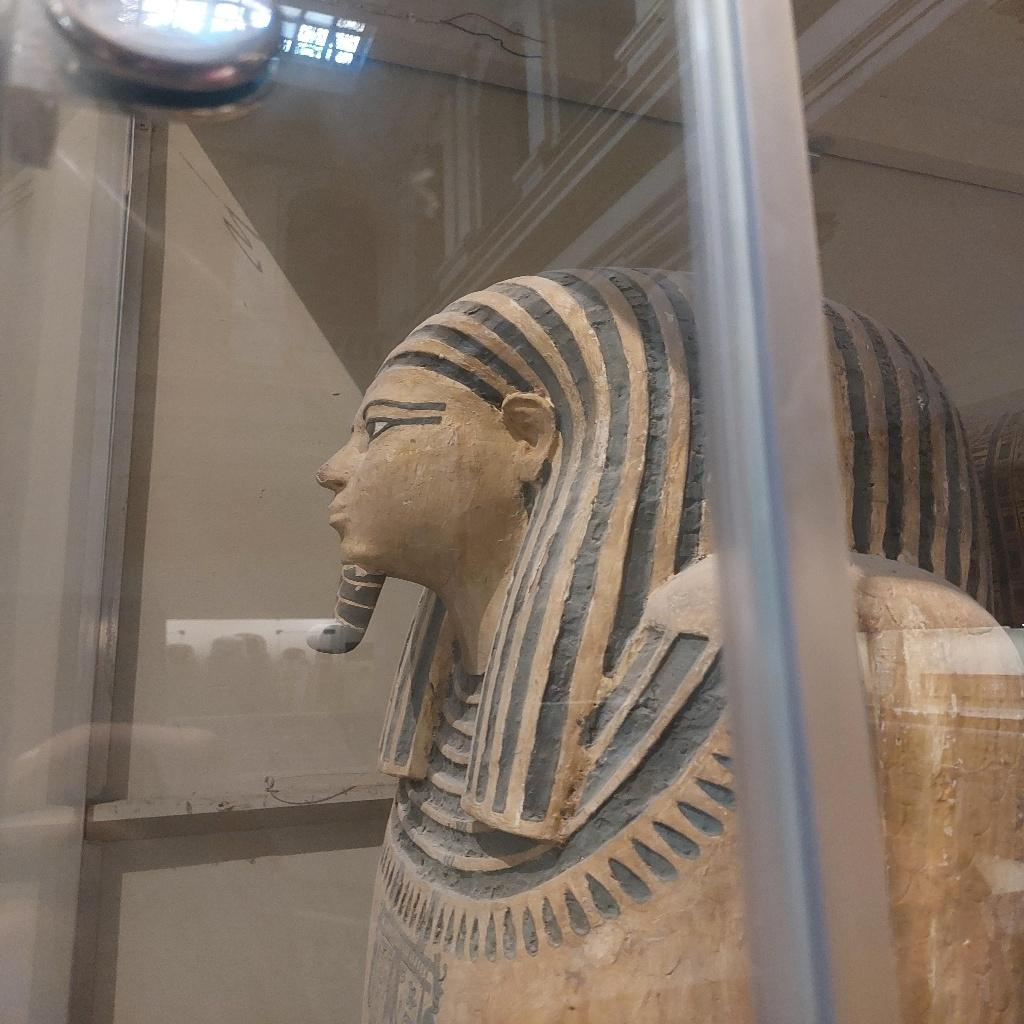Coffin of Ahmose I: (309, 260, 1019, 1020)
